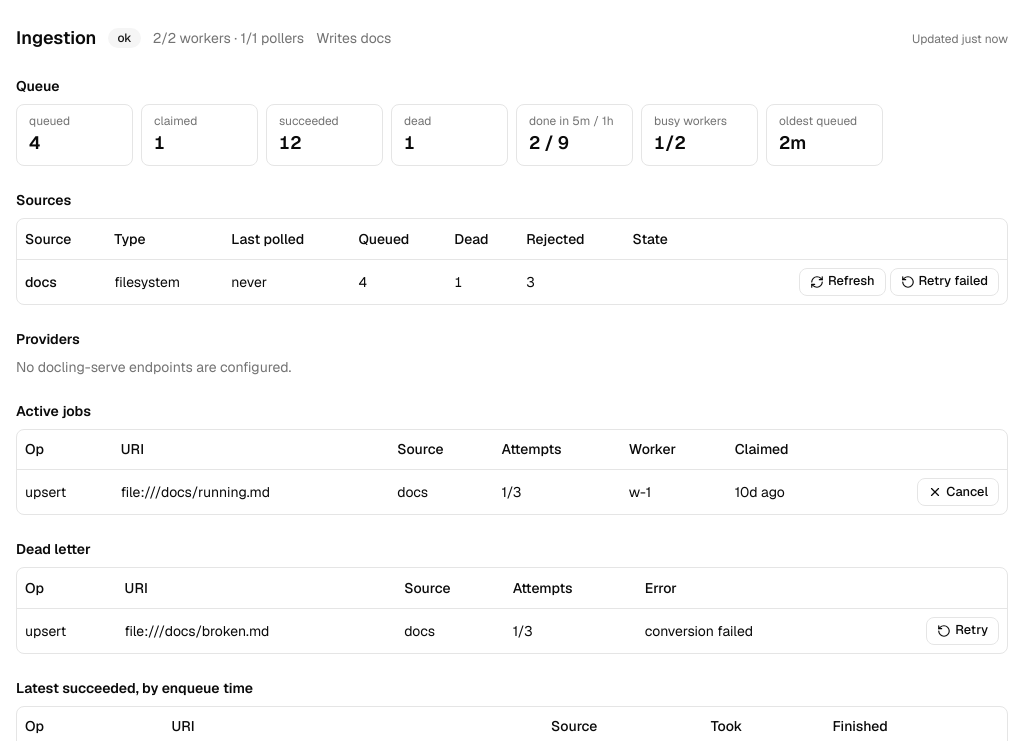
IngestionPage › refreshes a source, says so, and reads everything again
expect the text "filesystem" is shown: met, box [106,259,223,304]
Click the button "Refresh". click: point(842, 282)
box: [799,268,886,296]
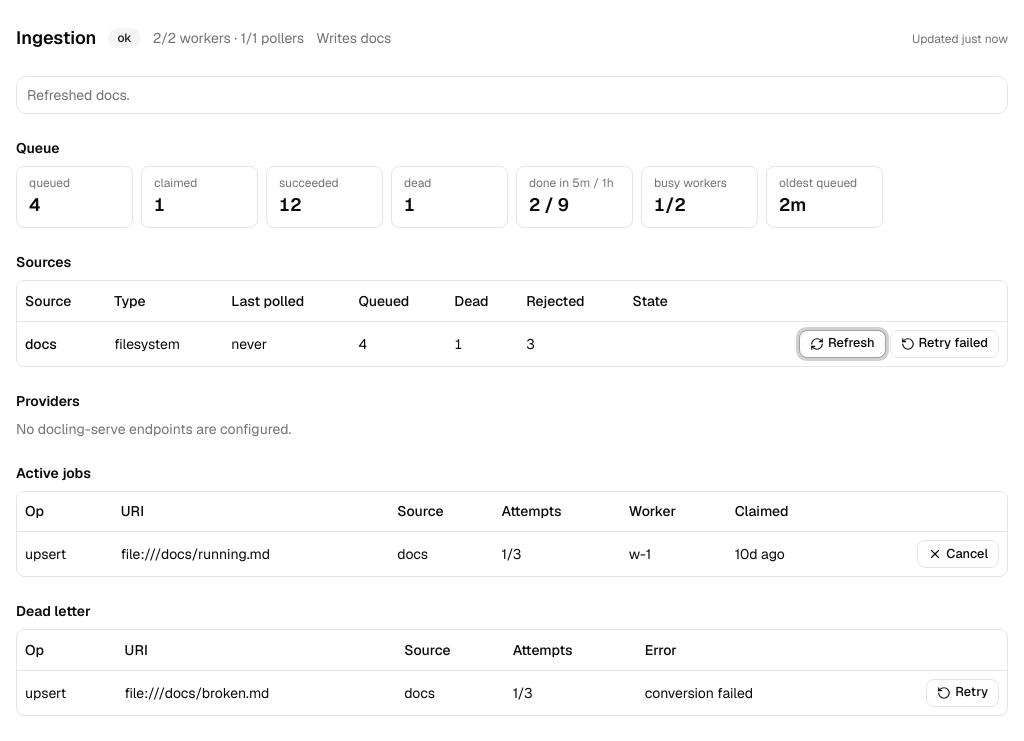
expect the text "Refreshed docs." is shown: met, box [27,86,130,104]
